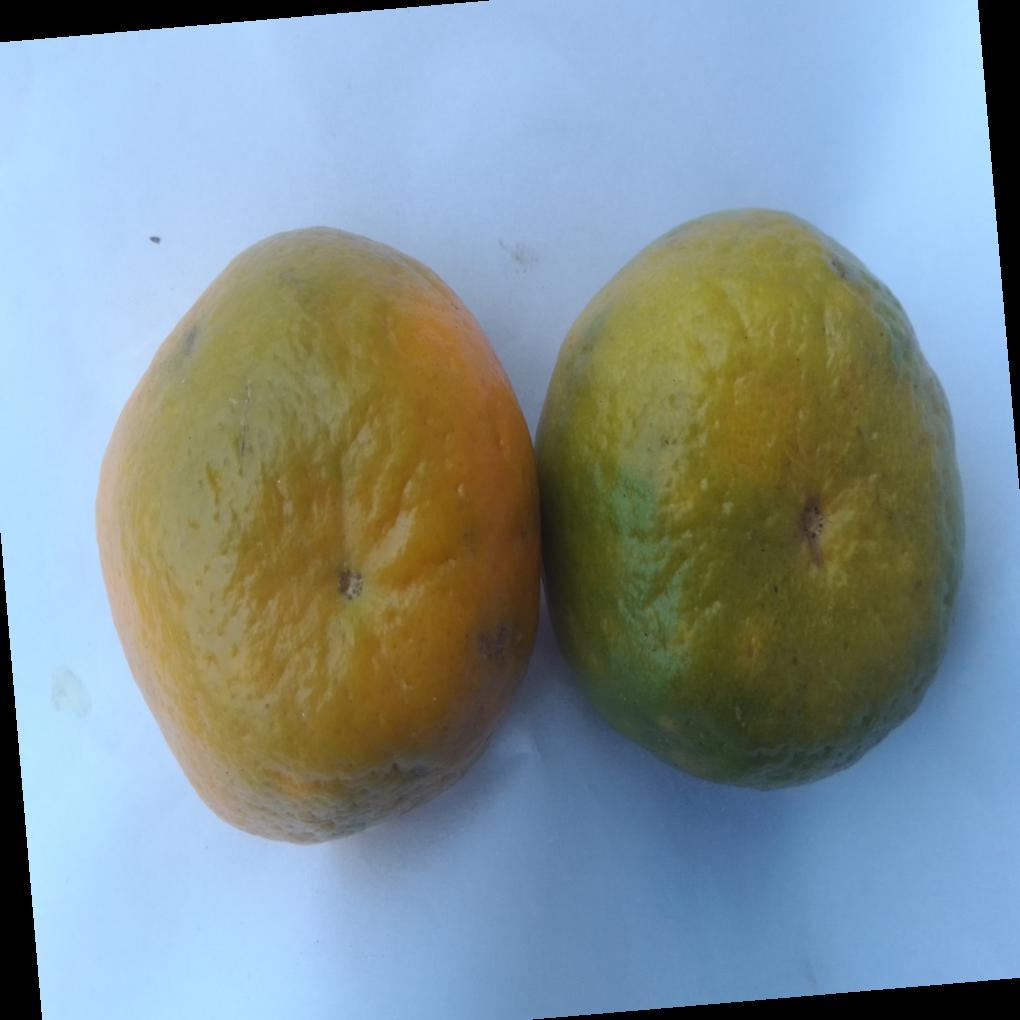FreshGuava: (92, 209, 966, 849)
